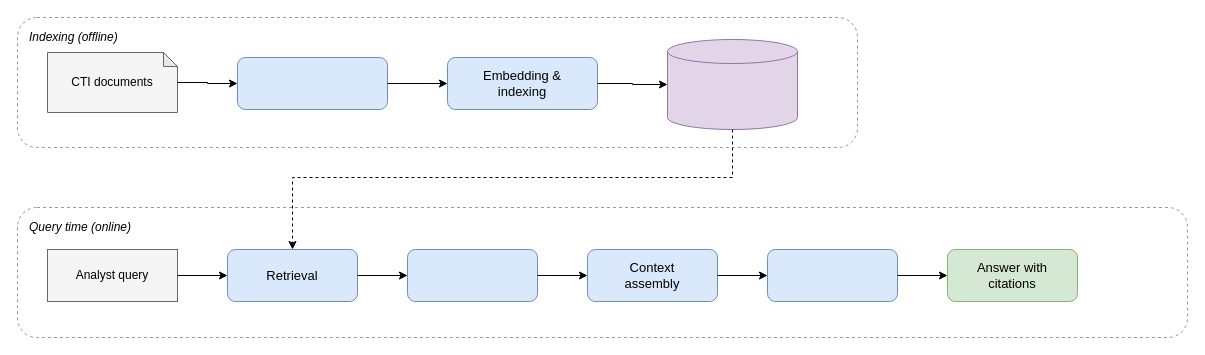
Image size: 1205x355. Some labels were removed from this diagram. The shapes that lost their labels are listed below. From the top down, each one's centre as x and y in pixels, then its label:
At [312,83]: "Cleaning & chunking".
At [732,84]: "Index (sparse + dense)".
At [472,275]: "Reranking".
At [832,275]: "Generation (LLM)".
